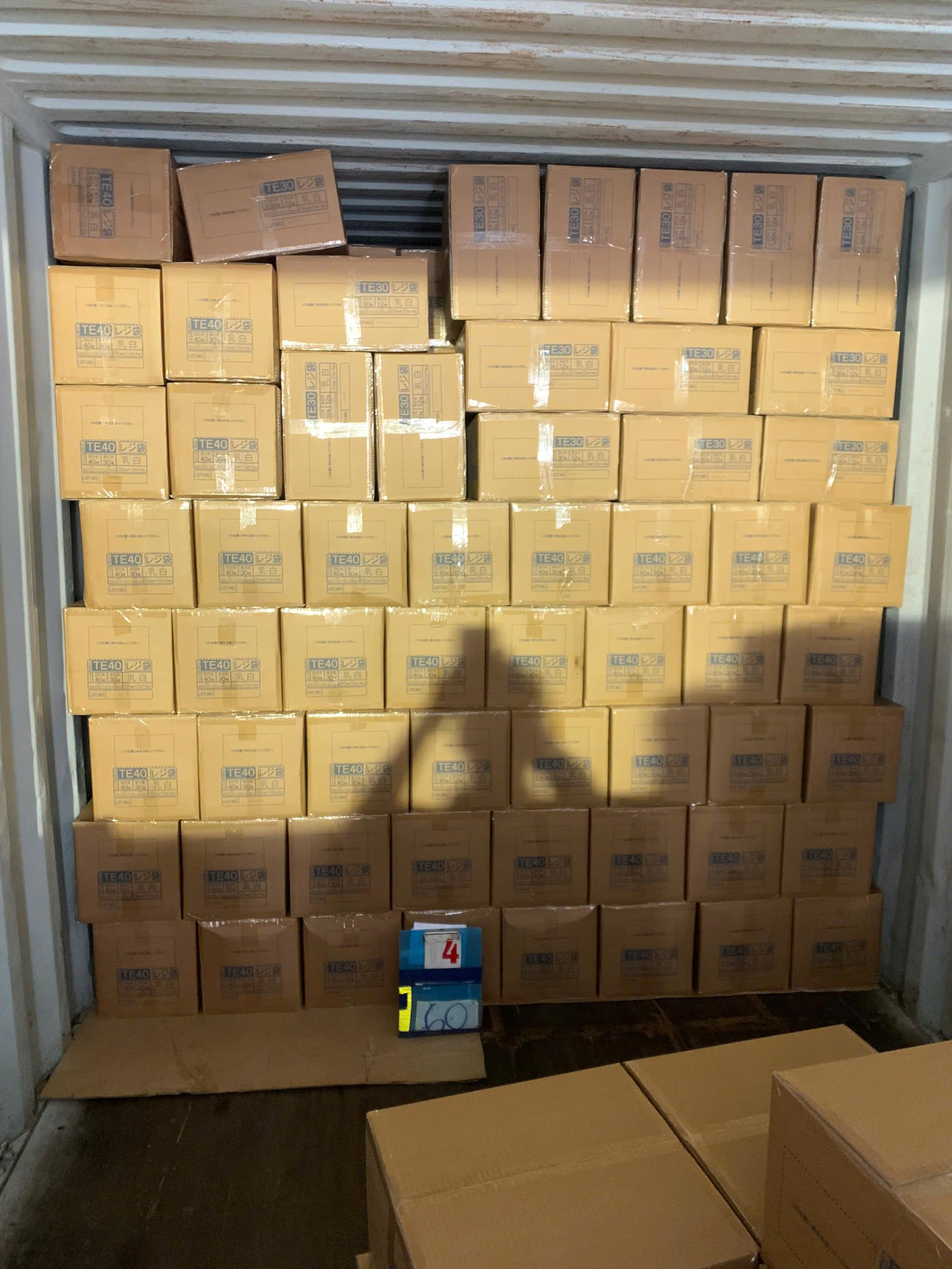carton: (175, 147, 349, 265), (49, 143, 181, 263), (278, 254, 433, 354), (809, 176, 909, 329), (721, 171, 819, 326), (467, 321, 624, 415), (446, 163, 541, 318), (46, 266, 165, 387), (542, 165, 635, 319), (160, 262, 279, 381), (54, 385, 171, 504), (755, 327, 904, 420), (281, 350, 376, 495), (372, 352, 467, 497), (631, 169, 720, 323), (166, 384, 281, 502), (611, 324, 757, 416), (74, 498, 192, 609), (477, 412, 616, 505), (760, 416, 901, 505), (624, 415, 761, 504), (72, 817, 187, 922), (174, 609, 284, 717), (82, 716, 197, 818), (279, 608, 388, 714), (61, 610, 176, 710), (190, 500, 299, 605), (299, 502, 405, 606), (194, 716, 302, 818), (90, 917, 199, 1018), (607, 504, 712, 608), (805, 504, 912, 605), (781, 607, 889, 707), (179, 821, 289, 919), (384, 607, 489, 709), (584, 605, 684, 711), (510, 500, 612, 603), (802, 707, 906, 808), (484, 607, 590, 706), (303, 715, 409, 814), (789, 890, 888, 994), (196, 918, 301, 1016), (288, 816, 391, 915), (607, 707, 712, 804), (780, 802, 881, 902), (391, 812, 493, 911), (709, 503, 809, 603), (407, 503, 505, 605), (683, 606, 784, 704), (508, 711, 607, 810), (300, 914, 401, 1011), (498, 906, 596, 1005), (706, 704, 804, 802), (589, 807, 688, 904), (490, 810, 586, 909), (398, 909, 494, 1006), (410, 709, 506, 805), (694, 897, 788, 995), (688, 803, 780, 903), (599, 901, 691, 999)
